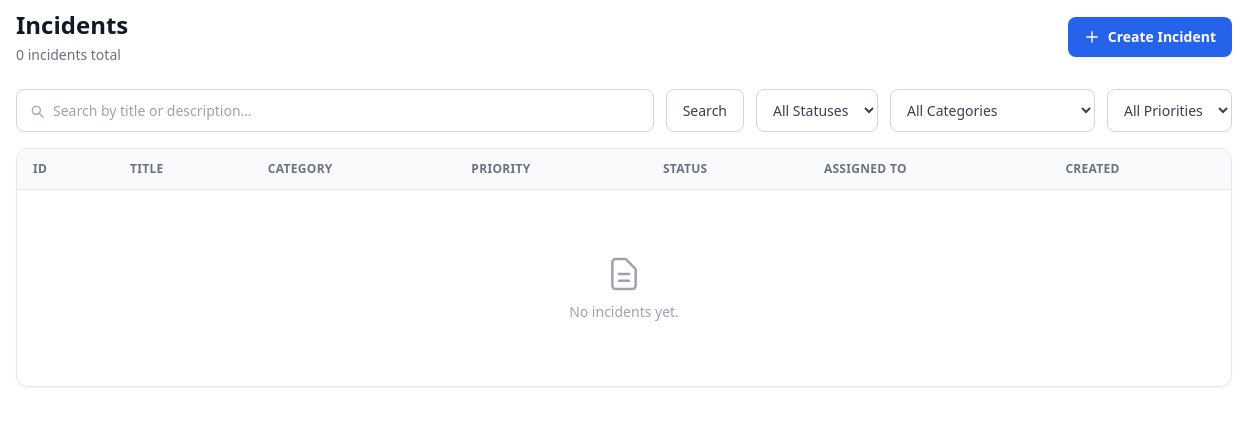
Test: IncidentListPage › shows filtered empty state message when filters are active
This screenshot has width=1249, height=428.
Select "Closed" in the dropdown named "filter by status" at point(817, 110), box [756,89,878,132]
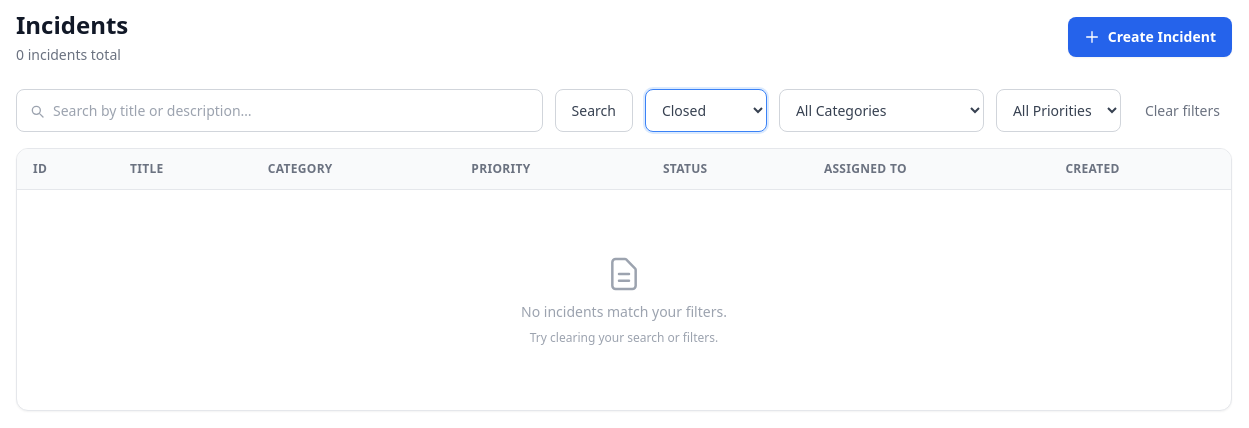
Check: the text "No incidents match your filters." is shown, box [521,302,727,322]
